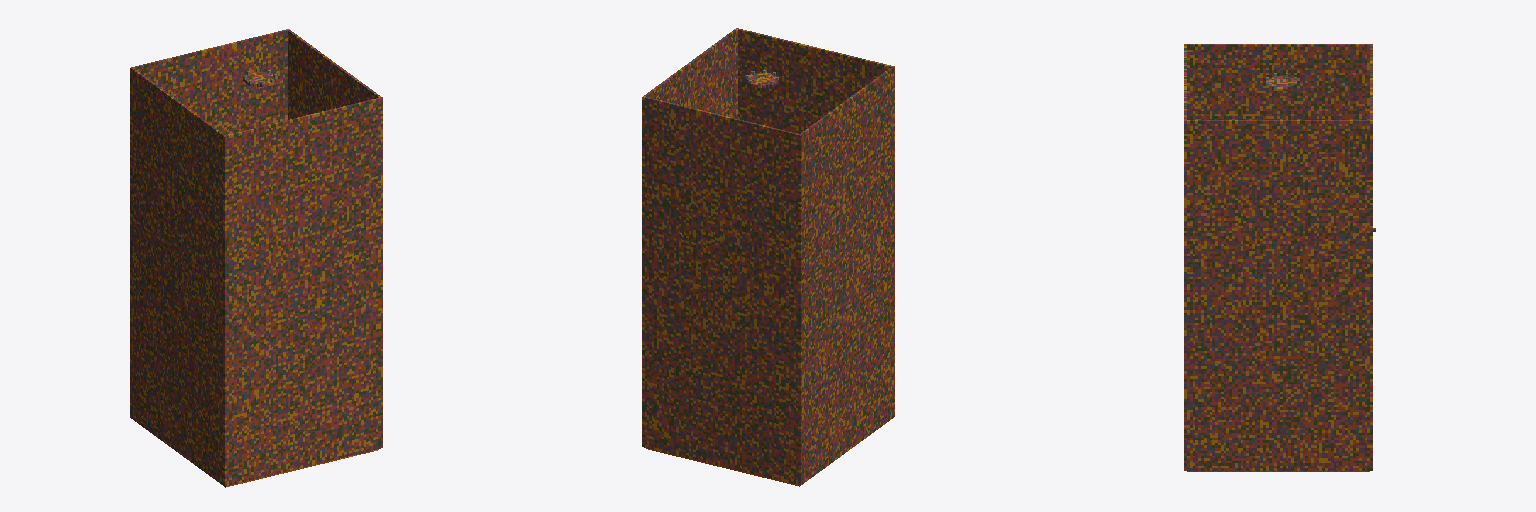
3 views of the same model, side by side, from view 1: azimuth 30°, elevation 25°; view 2: azimuth 150°, elevation 25°; view 3: azimuth 270°, elevation 25° (orthographic).
Bounding box in the file's own units: 65 × 140 × 68.
Materials: 14 (14 with a texture image).